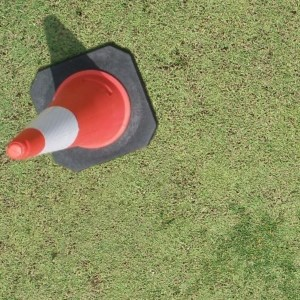traffic cone: (6, 43, 157, 172)
